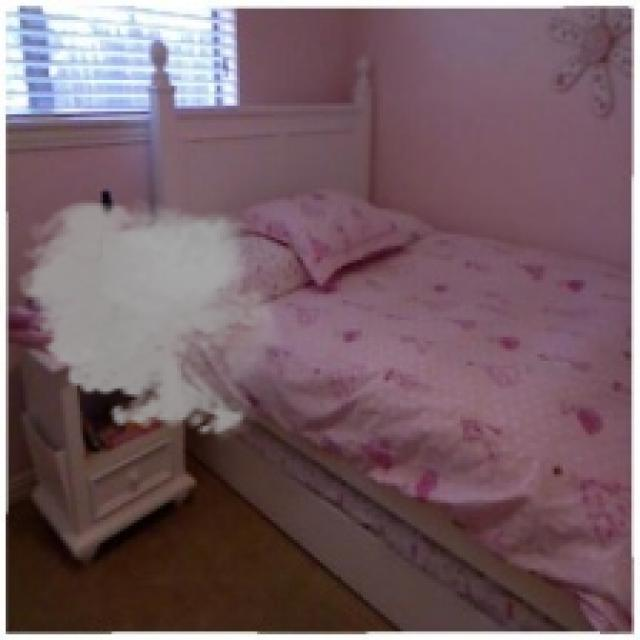Smoke: (8, 191, 292, 443)
